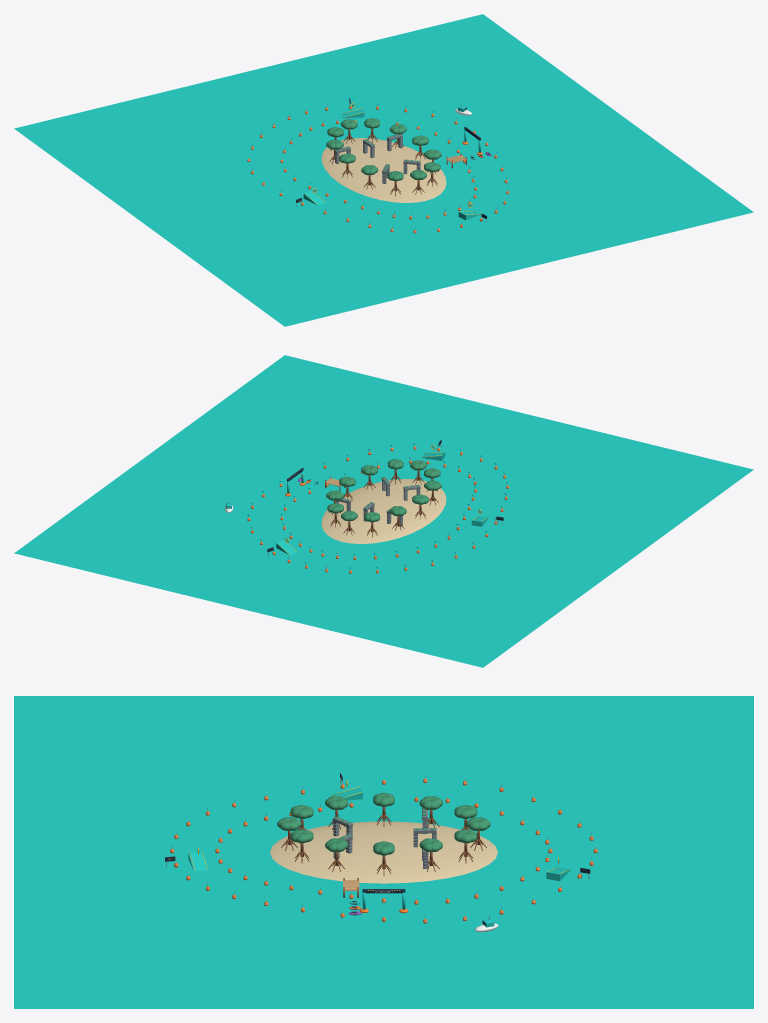
The model's file is Track_Mangrove_Rush.glb.
The picture shows the model from 3 angles, top to bottom: view 1: azimuth 30°, elevation 25°; view 2: azimuth 150°, elevation 25°; view 3: azimuth 270°, elevation 25°; orthographic projection. The views are drawn at different scales.
Parts seen in each view (by area): view 1: Water_preview_surface.002, Central_island.002; view 2: Water_preview_surface.002, Central_island.002; view 3: Water_preview_surface.002, Central_island.002.
Part boxes in pixels (box(x1,y1,x2,y2)): Water_preview_surface.002: box(14, 14, 753, 326); Central_island.002: box(321, 138, 446, 202); Water_preview_surface.002: box(14, 355, 753, 667); Central_island.002: box(321, 479, 446, 543); Water_preview_surface.002: box(14, 696, 753, 1008); Central_island.002: box(270, 821, 497, 883).
Bounding box in the file's own units: 180 × 13.3 × 180.
